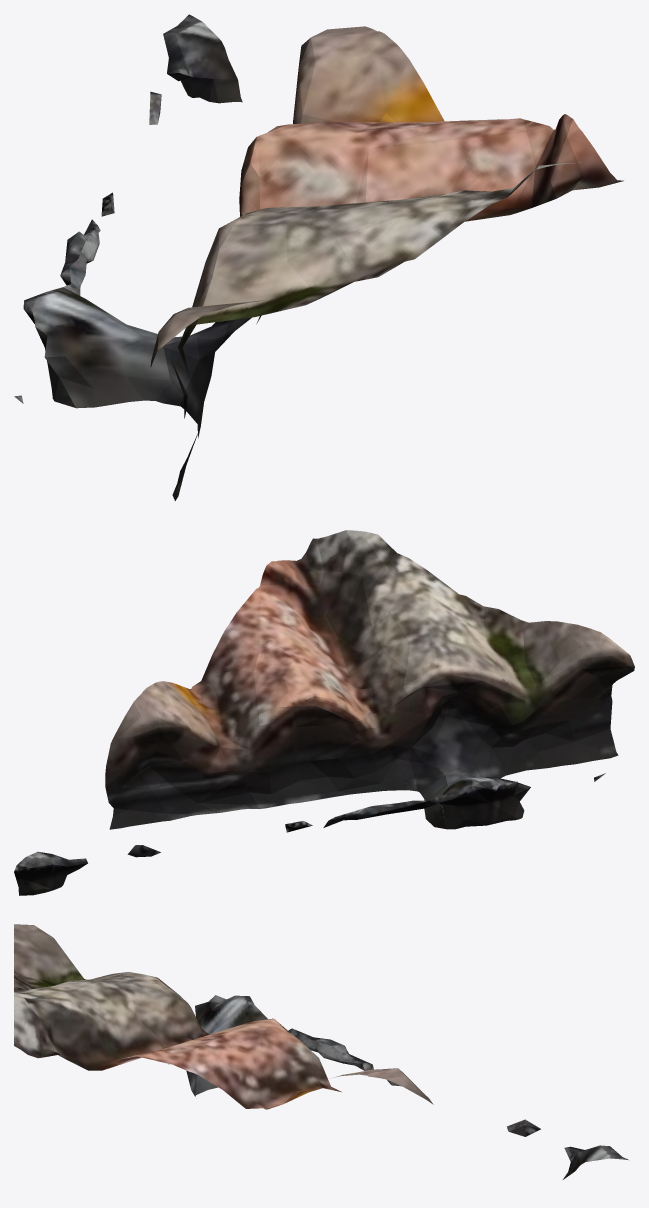
The picture shows the model from 3 angles, top to bottom: view 1: azimuth 30°, elevation 25°; view 2: azimuth 150°, elevation 25°; view 3: azimuth 270°, elevation 25°; orthographic projection. The views are drawn at different scales.
Bounding box in the file's own units: 0.5209 × 0.2286 × 0.764.
Materials: 1 (1 with a texture image).
